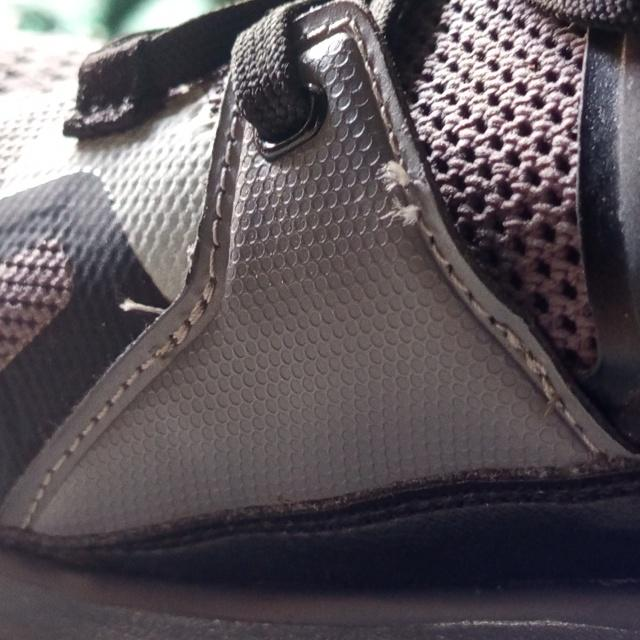broken-error: (366, 160, 429, 233)
